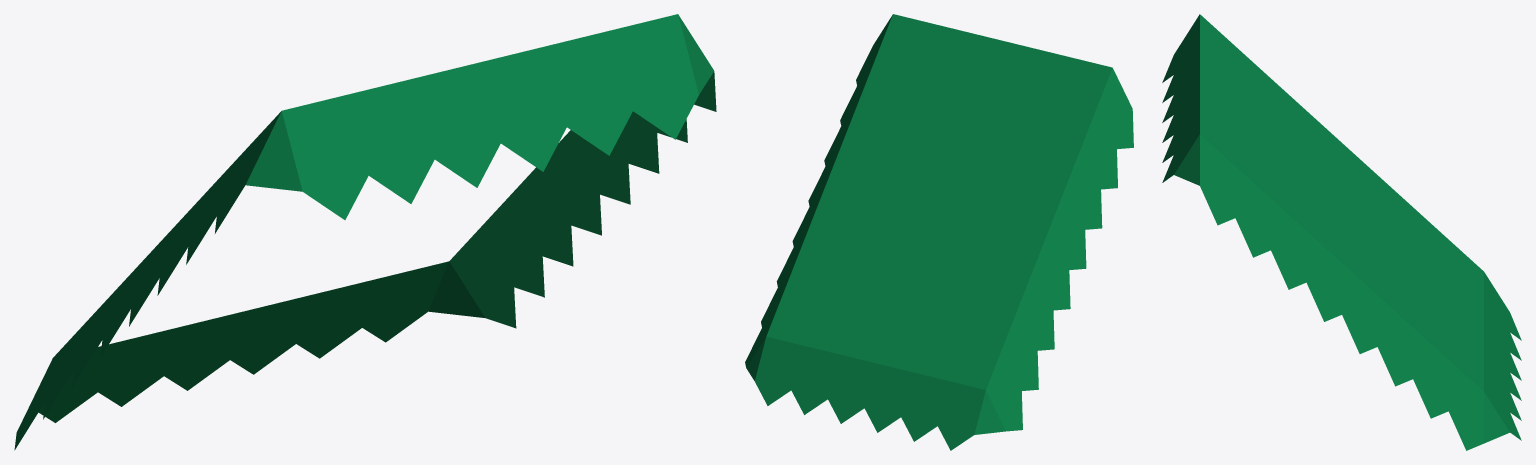
File: groundSlopeGrass.glb
3 views of the same model, side by side, from view 1: azimuth 30°, elevation 25°; view 2: azimuth 150°, elevation 25°; view 3: azimuth 270°, elevation 25° (orthographic). The views are drawn at different scales.
Visible parts, largest first — view 1: groundSlopeGrass; view 2: groundSlopeGrass; view 3: groundSlopeGrass.
Part boxes in pixels (<box>): groundSlopeGrass: <box>14,14,716,450</box>; groundSlopeGrass: <box>745,14,1133,450</box>; groundSlopeGrass: <box>1162,14,1521,450</box>.
Size of the model in its own units: 1.27 by 1.23 by 1.27.
